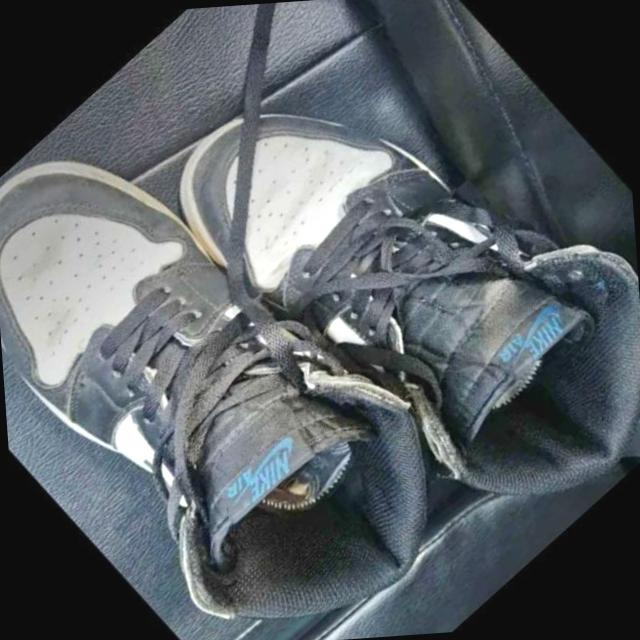nike_fake_jordan: (132, 0, 640, 598), (0, 52, 500, 640)
